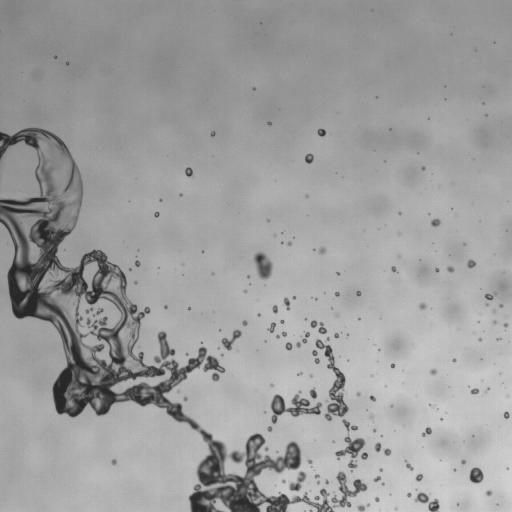droplet: (335, 435, 365, 470), (253, 252, 273, 279), (221, 329, 241, 350), (469, 467, 483, 483), (283, 297, 290, 310), (422, 427, 431, 436), (305, 154, 313, 163), (467, 259, 475, 268), (185, 167, 192, 177), (268, 322, 275, 332), (309, 388, 316, 398), (431, 219, 440, 226), (485, 293, 494, 300), (318, 128, 325, 136), (285, 342, 292, 350), (470, 388, 479, 394), (319, 247, 325, 254), (419, 303, 426, 309), (430, 368, 436, 375), (361, 452, 367, 459), (416, 474, 422, 481), (272, 305, 277, 313), (447, 266, 453, 272), (369, 395, 375, 401), (374, 476, 380, 482), (504, 411, 509, 418), (154, 211, 159, 217), (135, 260, 140, 266), (391, 266, 397, 271), (486, 490, 492, 495), (267, 426, 272, 431), (211, 131, 215, 136), (356, 291, 361, 295), (242, 321, 247, 325), (334, 333, 339, 337), (112, 459, 116, 464), (406, 493, 411, 497), (335, 292, 339, 296), (282, 332, 286, 336), (356, 392, 360, 396), (264, 447, 268, 451), (461, 460, 465, 464), (314, 474, 318, 478), (375, 497, 379, 501), (308, 459, 311, 464), (422, 166, 425, 170), (435, 268, 439, 271), (504, 323, 507, 327), (326, 337, 329, 341), (452, 359, 456, 362), (391, 363, 394, 367), (298, 372, 302, 375), (282, 479, 285, 483), (268, 122, 271, 125), (288, 242, 291, 245), (499, 304, 502, 307), (493, 320, 496, 323), (276, 335, 279, 338), (478, 338, 481, 341), (184, 397, 187, 400), (325, 480, 328, 483), (247, 275, 249, 278), (164, 306, 167, 308), (492, 310, 495, 312), (335, 314, 338, 316), (281, 320, 283, 323), (310, 374, 312, 377), (486, 388, 488, 391), (370, 415, 372, 418), (373, 429, 376, 431), (399, 212, 401, 214), (337, 272, 339, 274), (134, 281, 136, 283), (188, 307, 190, 309), (431, 405, 433, 407)
ligament: (0, 128, 367, 511), (315, 339, 357, 430), (270, 391, 321, 423), (414, 492, 439, 511), (289, 471, 306, 491), (374, 442, 391, 455), (295, 332, 309, 347), (310, 320, 326, 333), (357, 503, 369, 511), (312, 350, 319, 363), (94, 308, 103, 316), (405, 461, 412, 470), (309, 510, 312, 511)
